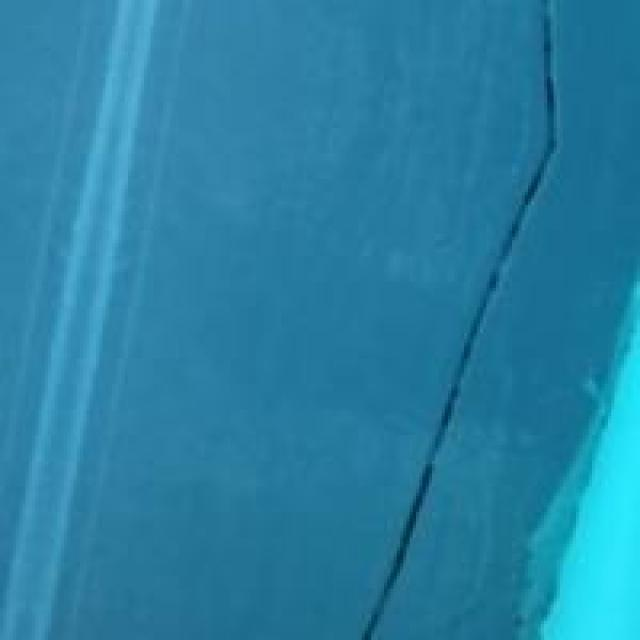Crack: (308, 13, 583, 637)
